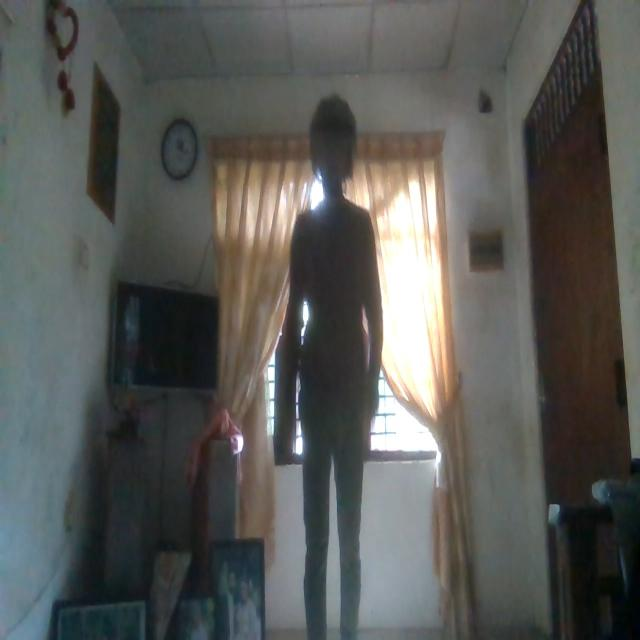Helmet_Wearer: (300, 92, 360, 208)
Person: (276, 88, 393, 640)
